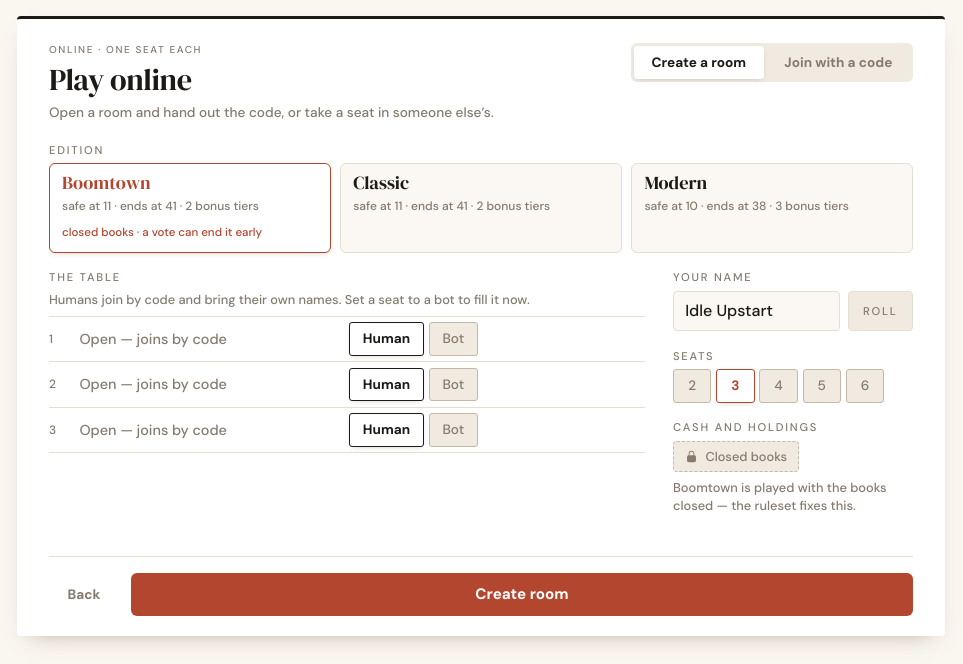
CreateJoin › keeps a pasted code to eight characters
This screenshot has width=963, height=664.
Click the button "Join with a code" at (838, 63), box [767,46,910,80]
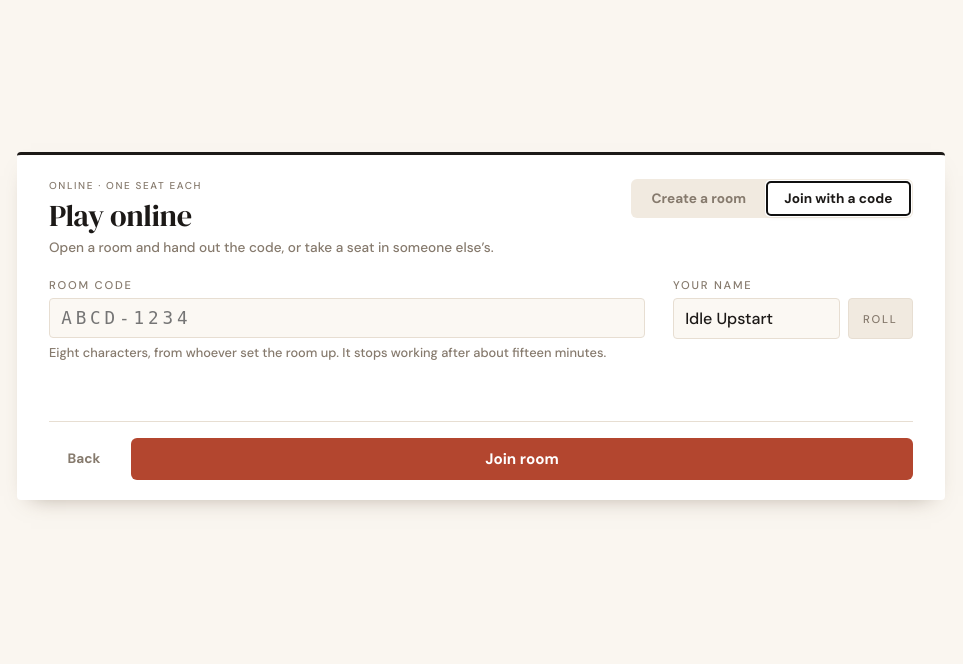
Click the field labelled "Room code" at (347, 318), box [49,298,645,338]
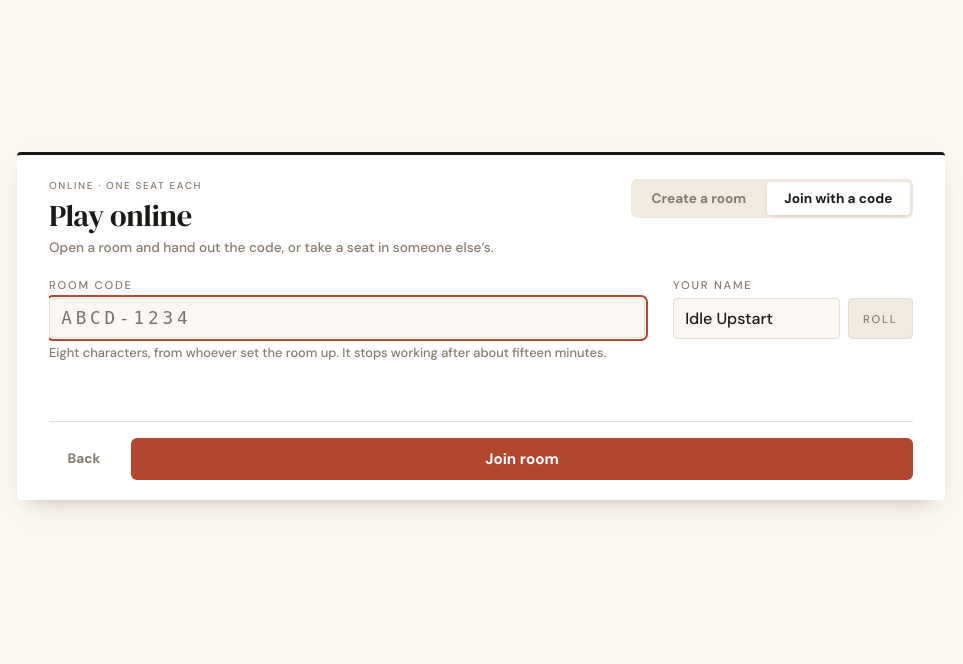
Type keys "ABCD1234EXTRA"
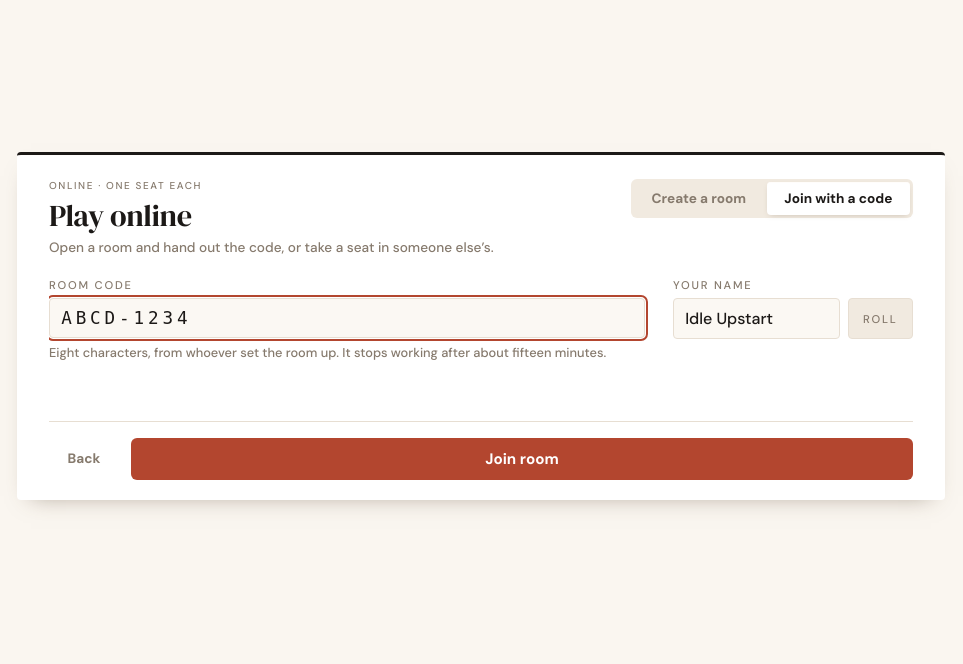
Check: the field labelled "Room code" holds "ABCD-1234", box [49,298,645,338]
